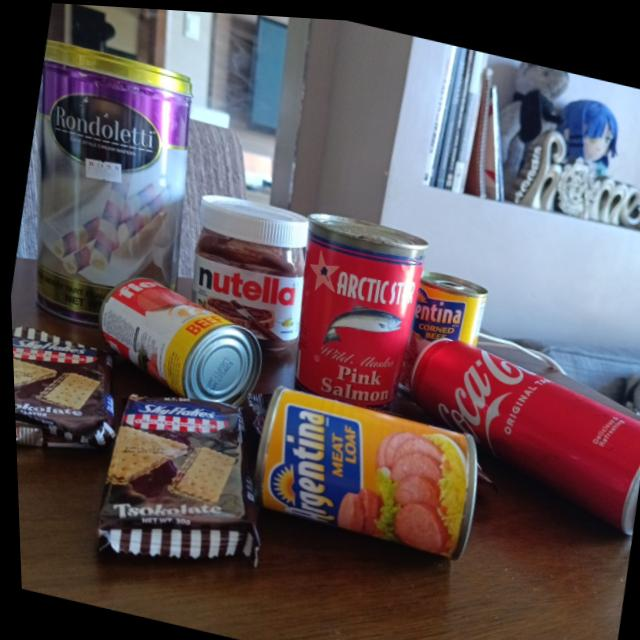coke: (389, 326, 640, 531)
